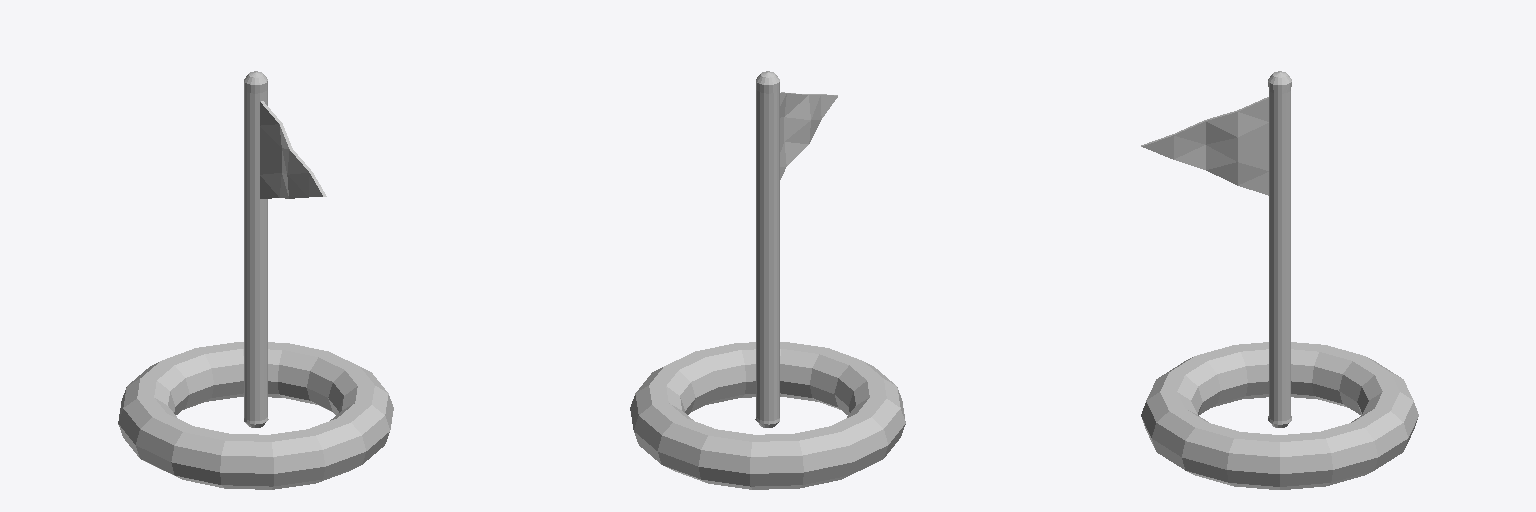
File: lifebuoyflag_basic.sgm.obj
3 renders of one model, left to right at view 1: azimuth 30°, elevation 25°; view 2: azimuth 150°, elevation 25°; view 3: azimuth 270°, elevation 25°, orthographic.
Bounding box in the file's own units: 0.5068 × 0.7385 × 0.5068.